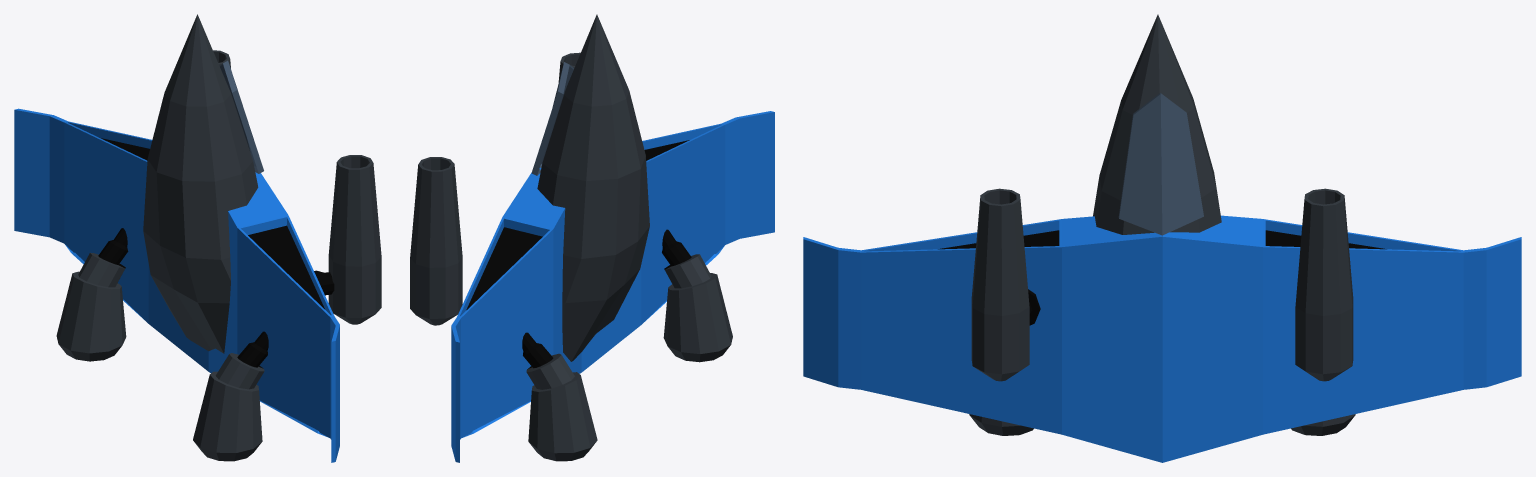
The model's file is blue.glb.
3 views of the same model, side by side, from view 1: azimuth 30°, elevation 25°; view 2: azimuth 150°, elevation 25°; view 3: azimuth 270°, elevation 25° (orthographic). The views are drawn at different scales.
Visible parts, largest first — view 1: Bidy.001, CAbon.002, Turbo.001, cannon.001, CAbon.003; view 2: Bidy.001, CAbon.002, Turbo.001, cannon.001, CAbon.003; view 3: Bidy.001, cannon.001, CAbon.002, CAbon.003, Turbo.001.
Part boxes in pixels (x1,y1,x2,y2): Bidy.001: (14, 108, 339, 462); CAbon.002: (143, 14, 258, 353); Turbo.001: (56, 228, 268, 461); cannon.001: (213, 50, 381, 324); CAbon.003: (219, 60, 263, 173); Bidy.001: (451, 111, 774, 462); CAbon.002: (537, 14, 649, 361); Turbo.001: (522, 229, 732, 461); cannon.001: (410, 52, 580, 325); CAbon.003: (531, 62, 574, 175); Bidy.001: (803, 215, 1521, 462); cannon.001: (971, 188, 1353, 381); CAbon.002: (1093, 14, 1221, 234); CAbon.003: (1118, 93, 1203, 235); Turbo.001: (969, 414, 1355, 435).
Size of the model in its own units: 1.98 by 4.04 by 6.12.
